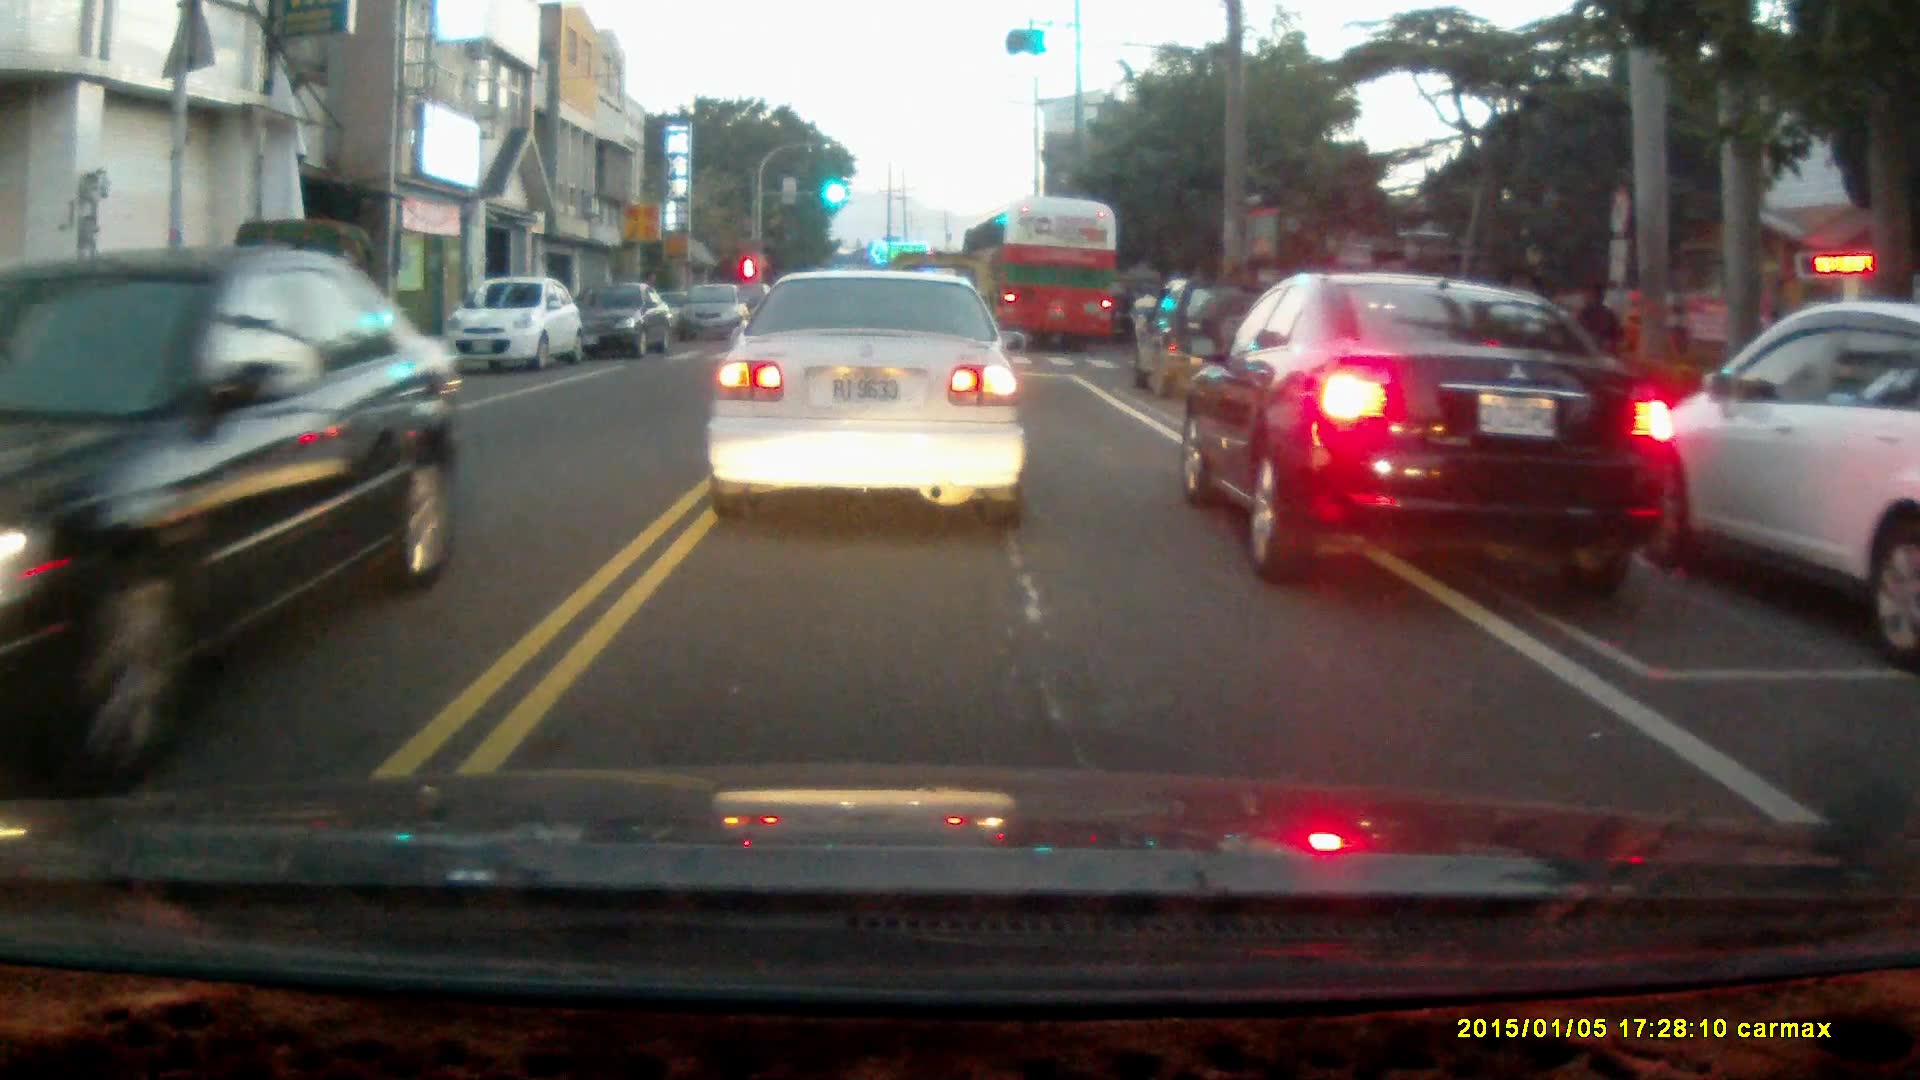pedestrian: (1572, 280, 1621, 405)
vehicle: (1, 248, 460, 763), (1180, 274, 1683, 583), (1618, 298, 1920, 615), (705, 265, 1029, 528), (182, 215, 422, 408), (963, 202, 1117, 357), (1137, 279, 1285, 402), (447, 279, 589, 377), (569, 277, 677, 362), (678, 285, 755, 343)
